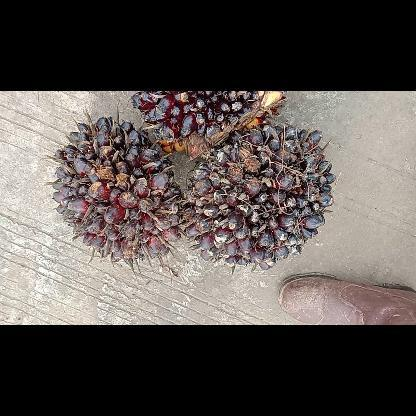TBS mentah: (182, 124, 336, 270), (51, 115, 184, 263), (129, 90, 289, 160)
